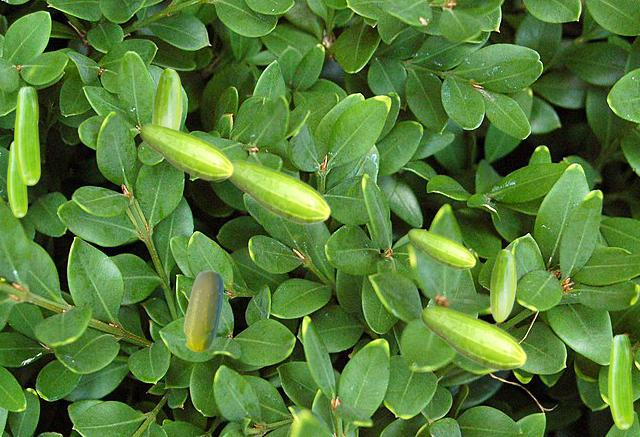cucumber: (420, 305, 526, 370), (228, 159, 330, 224), (139, 123, 233, 180), (183, 270, 222, 351), (407, 228, 475, 269), (14, 86, 39, 184), (608, 334, 632, 428), (490, 249, 515, 321), (152, 68, 181, 129), (7, 140, 26, 216)
